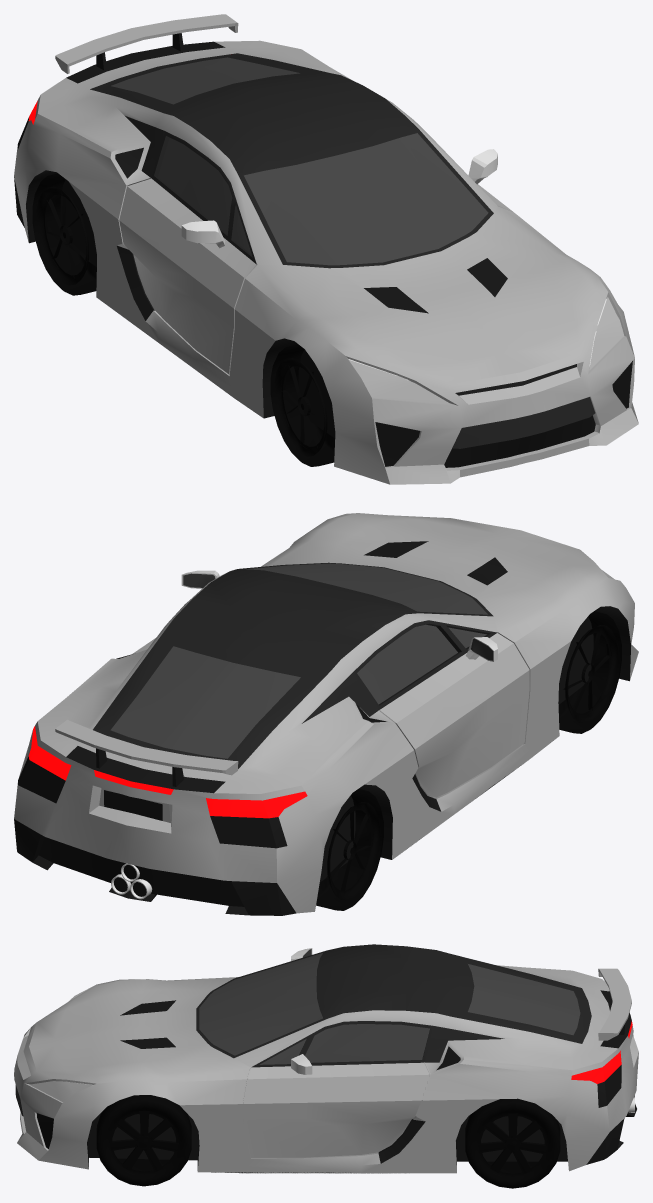
Rendered from Silverlowpoly car.fbx.
The picture shows the model from 3 angles, top to bottom: view 1: azimuth 30°, elevation 25°; view 2: azimuth 150°, elevation 25°; view 3: azimuth 270°, elevation 25°; orthographic projection. The views are drawn at different scales.
Visible parts, largest first — view 1: Body, Brw, Frw; view 2: Body, Brw, Frw; view 3: Body, Flw, Bwl.
Part boxes in pixels (x1,y1,x2,y2): Body: [14, 14, 638, 484]; Brw: [32, 173, 96, 295]; Frw: [270, 344, 334, 466]; Body: [14, 513, 638, 915]; Brw: [316, 789, 383, 910]; Frw: [558, 611, 621, 733]; Body: [14, 944, 638, 1173]; Flw: [96, 1095, 191, 1186]; Bwl: [465, 1098, 560, 1188].
Bounding box in the file's own units: 1.97 × 4.41 × 1.23.
